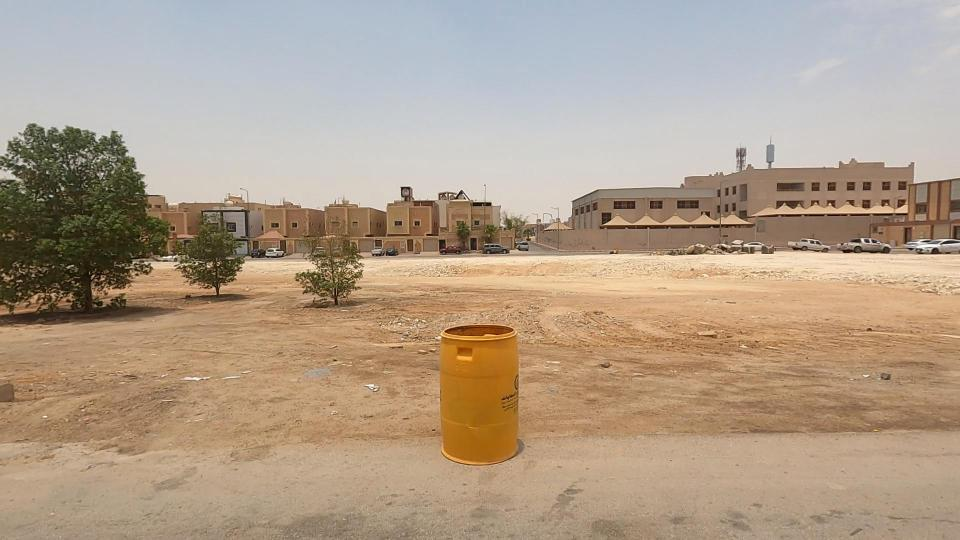GARBAGE: (132, 354, 281, 407), (264, 353, 366, 398), (343, 361, 409, 414)
